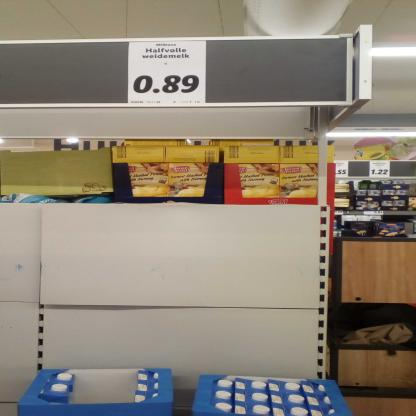prtg: (129, 42, 207, 104)
